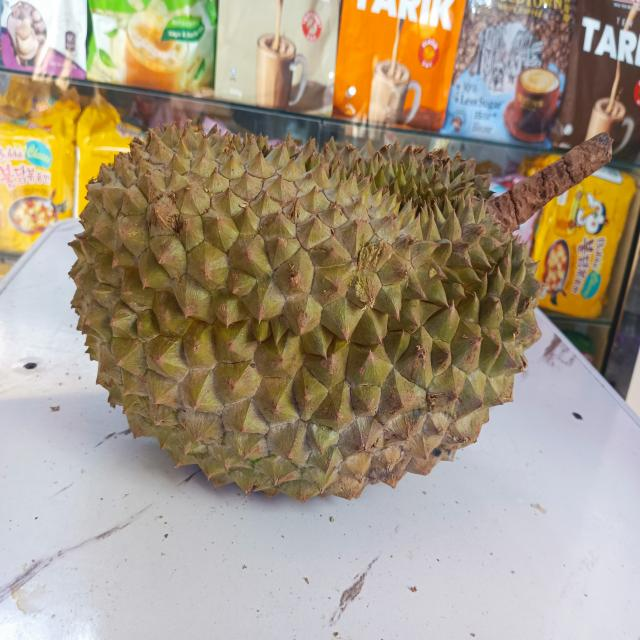mature: (70, 121, 542, 501)
